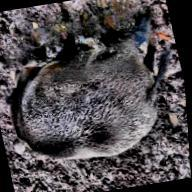boar: (0, 7, 191, 172)
